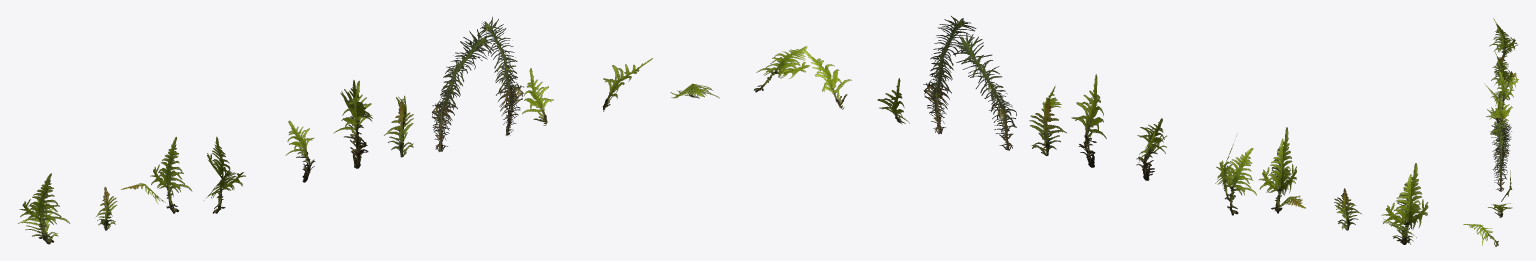
File: moss_01.glb
3 views of the same model, side by side, from view 1: azimuth 30°, elevation 25°; view 2: azimuth 150°, elevation 25°; view 3: azimuth 270°, elevation 25° (orthographic). The views are drawn at different scales.
Parts seen in each view (by area): view 1: moss_01_tall_a_LOD0, moss_01_tall_b_LOD0, moss_01_a_LOD0, moss_01_f_LOD0, moss_01_c_LOD0, moss_01_d_LOD0, moss_01_g_LOD0, moss_01_e_LOD0, moss_01_h_LOD0, moss_01_i_LOD0, moss_01_b_LOD0; view 2: moss_01_tall_b_LOD0, moss_01_tall_a_LOD0, moss_01_a_LOD0, moss_01_c_LOD0, moss_01_d_LOD0, moss_01_f_LOD0, moss_01_g_LOD0, moss_01_j_LOD0, moss_01_e_LOD0, moss_01_i_LOD0, moss_01_b_LOD0, moss_01_h_LOD0; view 3: moss_01_tall_b_LOD0, moss_01_a_LOD0, moss_01_c_LOD0, moss_01_d_LOD0, moss_01_f_LOD0, moss_01_tall_a_LOD0, moss_01_j_LOD0, moss_01_i_LOD0, moss_01_e_LOD0, moss_01_b_LOD0, moss_01_g_LOD0, moss_01_h_LOD0.
Boxes of the visible parts, x1=… form: moss_01_tall_a_LOD0: x1=432, y1=29, x2=493, y2=151; moss_01_tall_b_LOD0: x1=477, y1=16, x2=523, y2=135; moss_01_a_LOD0: x1=18, y1=173, x2=69, y2=244; moss_01_f_LOD0: x1=333, y1=80, x2=372, y2=168; moss_01_c_LOD0: x1=121, y1=137, x2=192, y2=213; moss_01_d_LOD0: x1=204, y1=136, x2=245, y2=213; moss_01_g_LOD0: x1=384, y1=95, x2=413, y2=157; moss_01_e_LOD0: x1=285, y1=120, x2=315, y2=182; moss_01_h_LOD0: x1=522, y1=68, x2=553, y2=125; moss_01_i_LOD0: x1=602, y1=58, x2=652, y2=111; moss_01_b_LOD0: x1=95, y1=187, x2=117, y2=230; moss_01_tall_b_LOD0: x1=923, y1=16, x2=976, y2=134; moss_01_tall_a_LOD0: x1=953, y1=33, x2=1016, y2=150; moss_01_a_LOD0: x1=1381, y1=163, x2=1428, y2=244; moss_01_c_LOD0: x1=1259, y1=127, x2=1305, y2=213; moss_01_d_LOD0: x1=1215, y1=133, x2=1256, y2=215; moss_01_f_LOD0: x1=1071, y1=74, x2=1106, y2=167; moss_01_g_LOD0: x1=1029, y1=85, x2=1066, y2=155; moss_01_j_LOD0: x1=754, y1=46, x2=809, y2=92; moss_01_e_LOD0: x1=1136, y1=118, x2=1166, y2=180; moss_01_i_LOD0: x1=801, y1=48, x2=851, y2=109; moss_01_b_LOD0: x1=1334, y1=188, x2=1361, y2=230; moss_01_h_LOD0: x1=877, y1=78, x2=909, y2=124; moss_01_tall_b_LOD0: x1=1490, y1=118, x2=1510, y2=191; moss_01_a_LOD0: x1=1489, y1=18, x2=1518, y2=60; moss_01_c_LOD0: x1=1491, y1=50, x2=1518, y2=96; moss_01_d_LOD0: x1=1484, y1=70, x2=1514, y2=108; moss_01_f_LOD0: x1=1489, y1=97, x2=1512, y2=139; moss_01_tall_a_LOD0: x1=1494, y1=124, x2=1511, y2=172; moss_01_j_LOD0: x1=1463, y1=224, x2=1498, y2=246; moss_01_i_LOD0: x1=1488, y1=203, x2=1512, y2=217; moss_01_e_LOD0: x1=1486, y1=93, x2=1508, y2=129; moss_01_b_LOD0: x1=1492, y1=55, x2=1508, y2=77; moss_01_g_LOD0: x1=1490, y1=122, x2=1506, y2=152; moss_01_h_LOD0: x1=1501, y1=170, x2=1512, y2=201.
Size of the model in its own units: 0.2153 by 0.0404 by 0.0294.
Materials: 1 (1 with a texture image).
